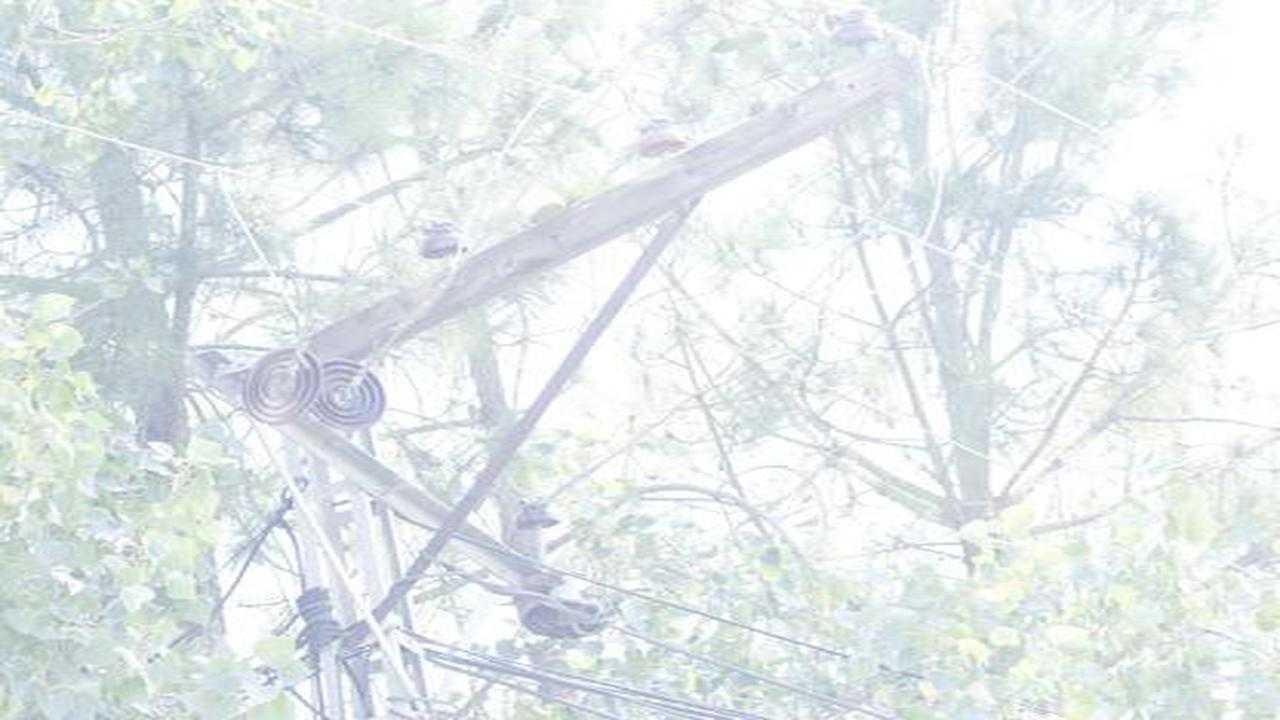insulator_disc: (243, 346, 321, 424), (319, 357, 390, 429)
insulator_pin: (632, 113, 688, 161), (825, 6, 886, 48), (415, 217, 472, 261), (511, 492, 564, 536)
